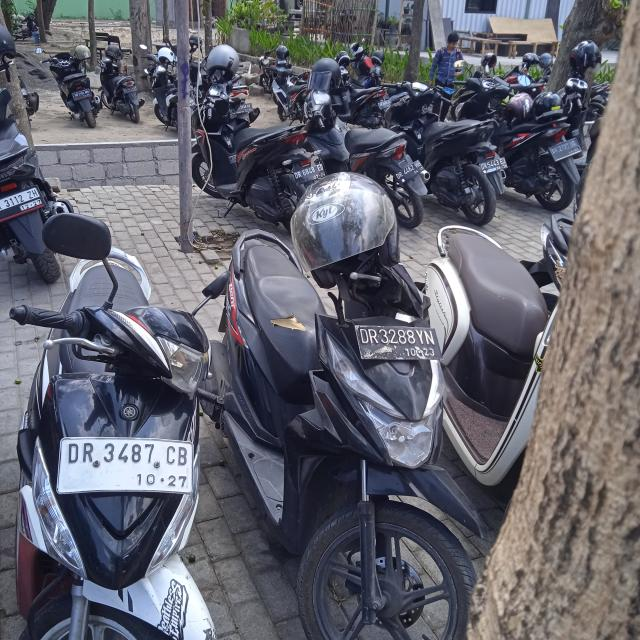plate: (56, 432, 198, 500), (353, 322, 445, 362), (1, 186, 46, 222), (292, 162, 327, 186), (394, 159, 425, 186)
